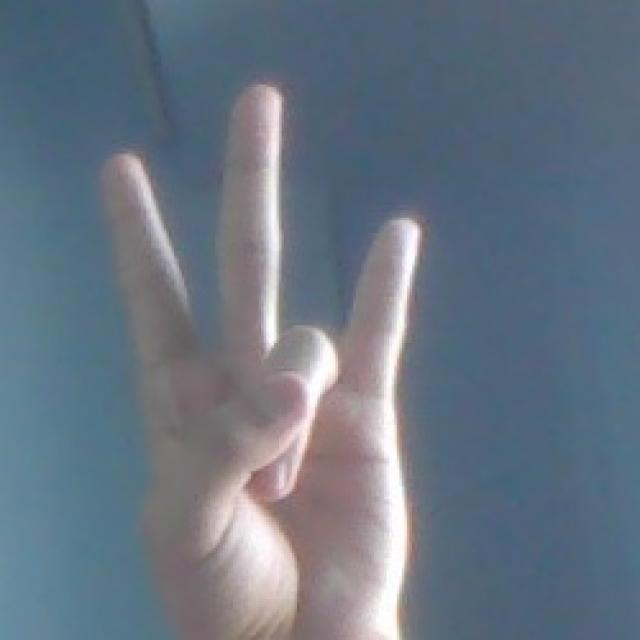Numeric-7: (110, 62, 450, 634)
